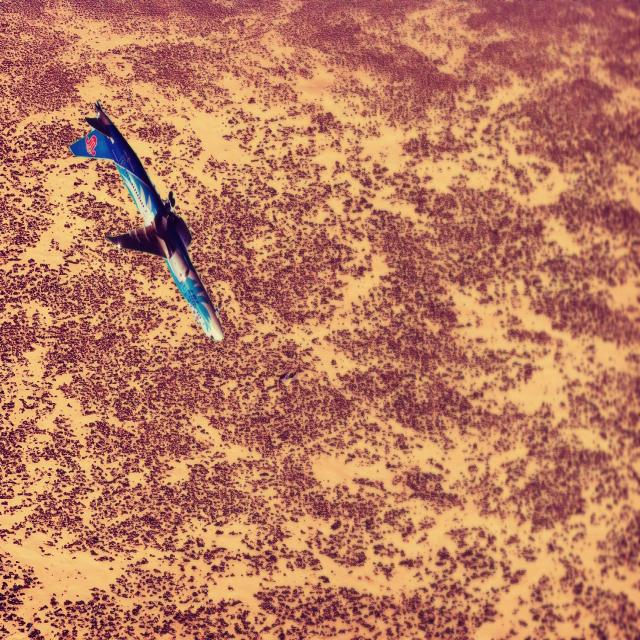airplane: (68, 98, 224, 344)
